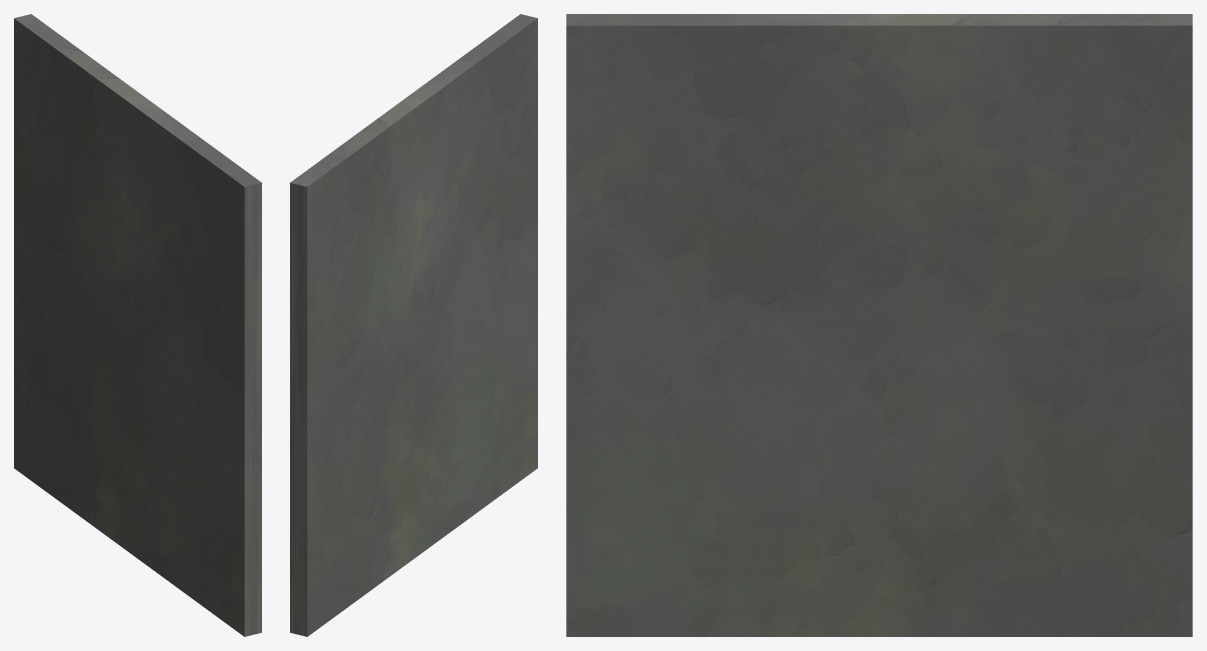
The model's file is Concrete_Wall.fbx.
3 views of the same model, side by side, from view 1: azimuth 30°, elevation 25°; view 2: azimuth 150°, elevation 25°; view 3: azimuth 270°, elevation 25° (orthographic). The views are drawn at different scales.
Visible parts, largest first — view 1: Brick.001_cell; view 2: Brick.001_cell; view 3: Brick.001_cell.
Boxes of the visible parts, bbox=[...] form: Brick.001_cell: bbox=[14, 14, 261, 636]; Brick.001_cell: bbox=[290, 14, 537, 636]; Brick.001_cell: bbox=[566, 14, 1192, 636].
Bounding box in the file's own units: 104 × 2574 × 2390.
Materials: 1 (1 with a texture image).
